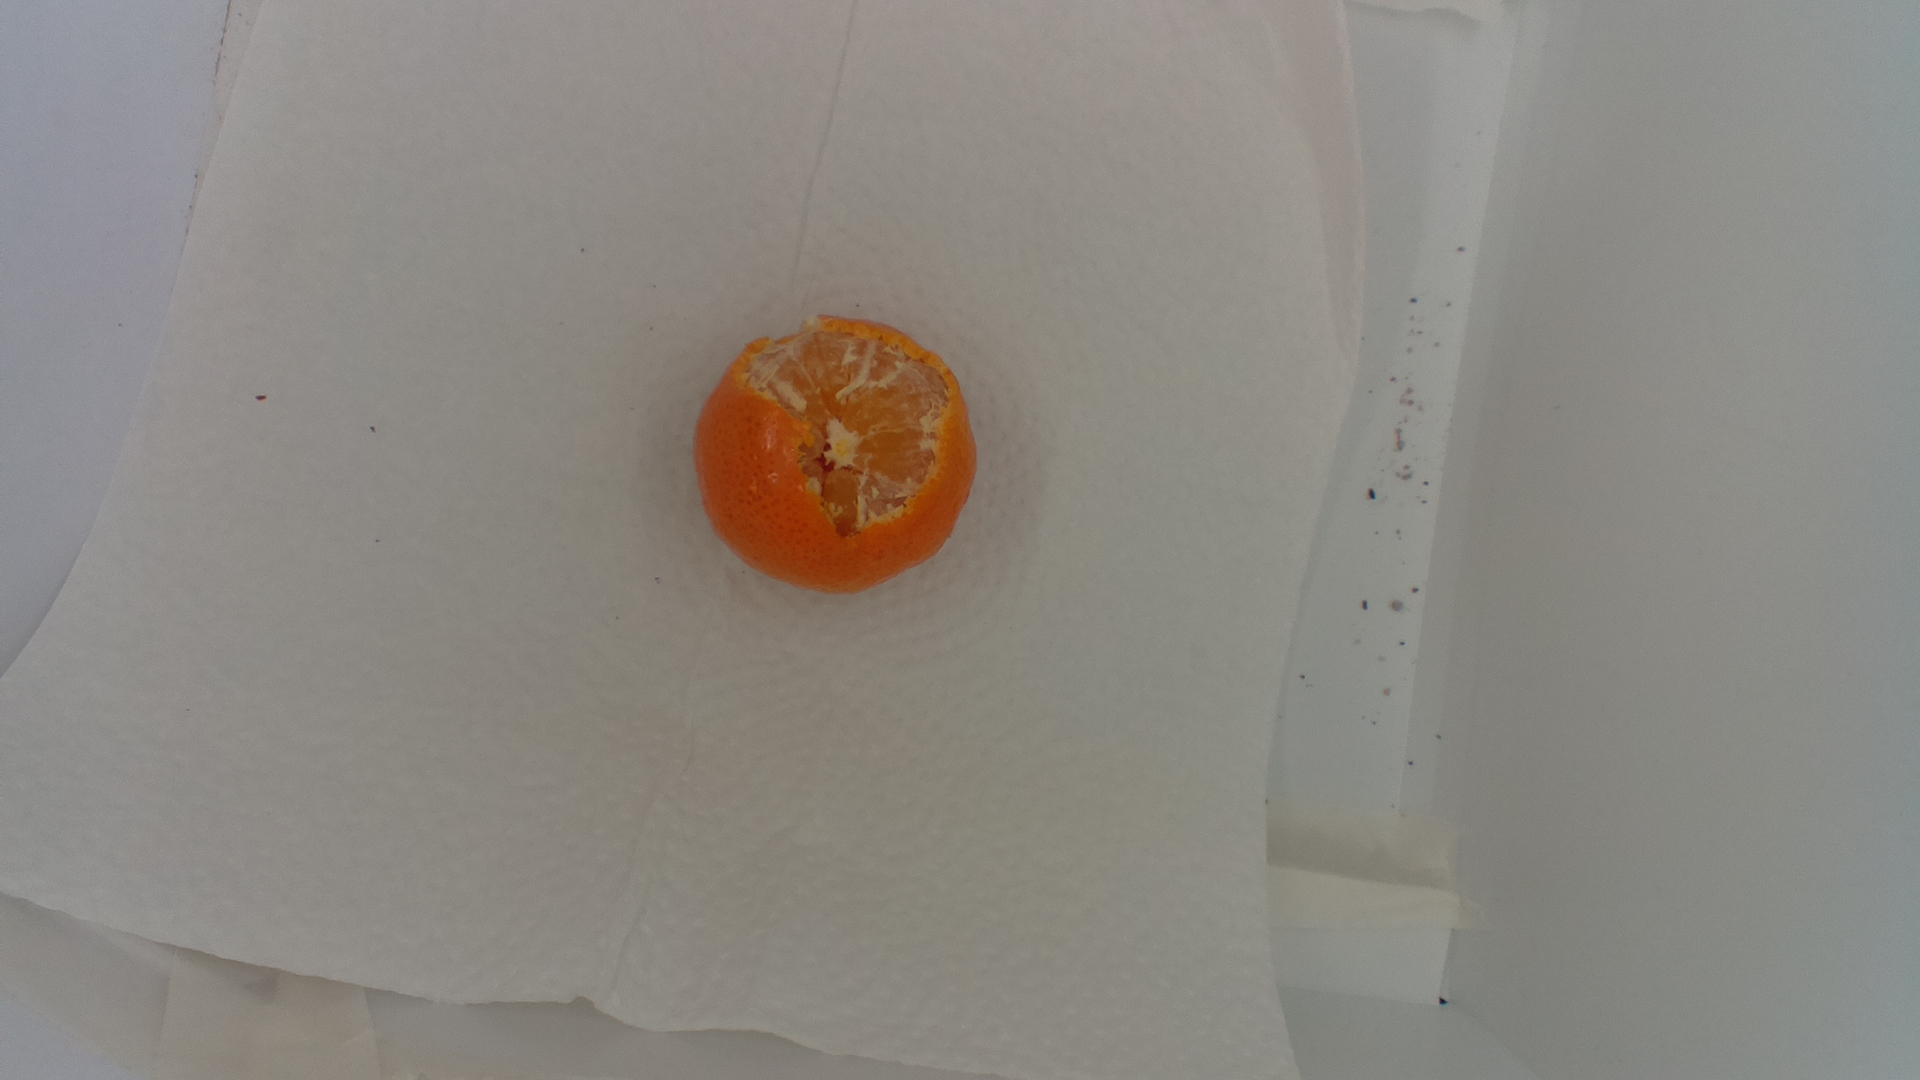fruit: (691, 309, 982, 600)
